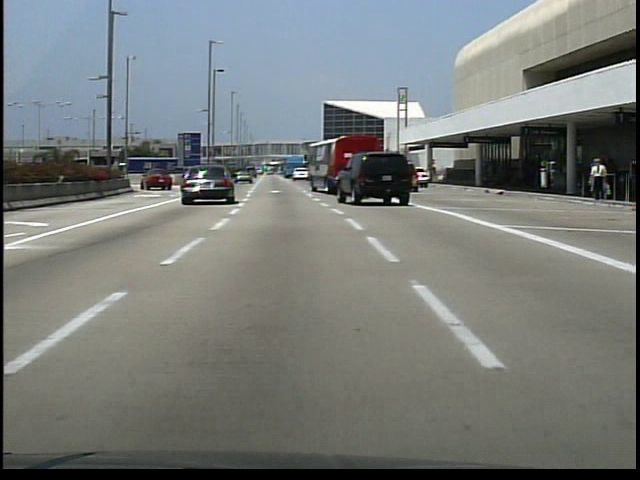person: (582, 154, 609, 204)
